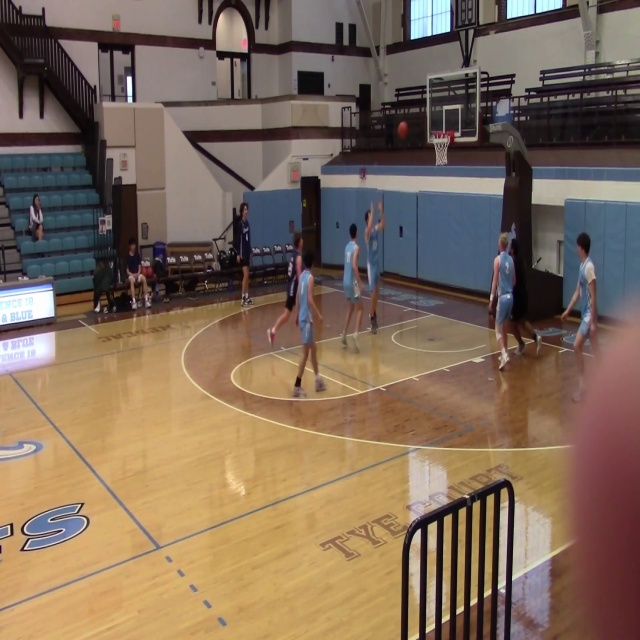Basketball: (397, 121, 408, 139), (142, 266, 153, 278)
